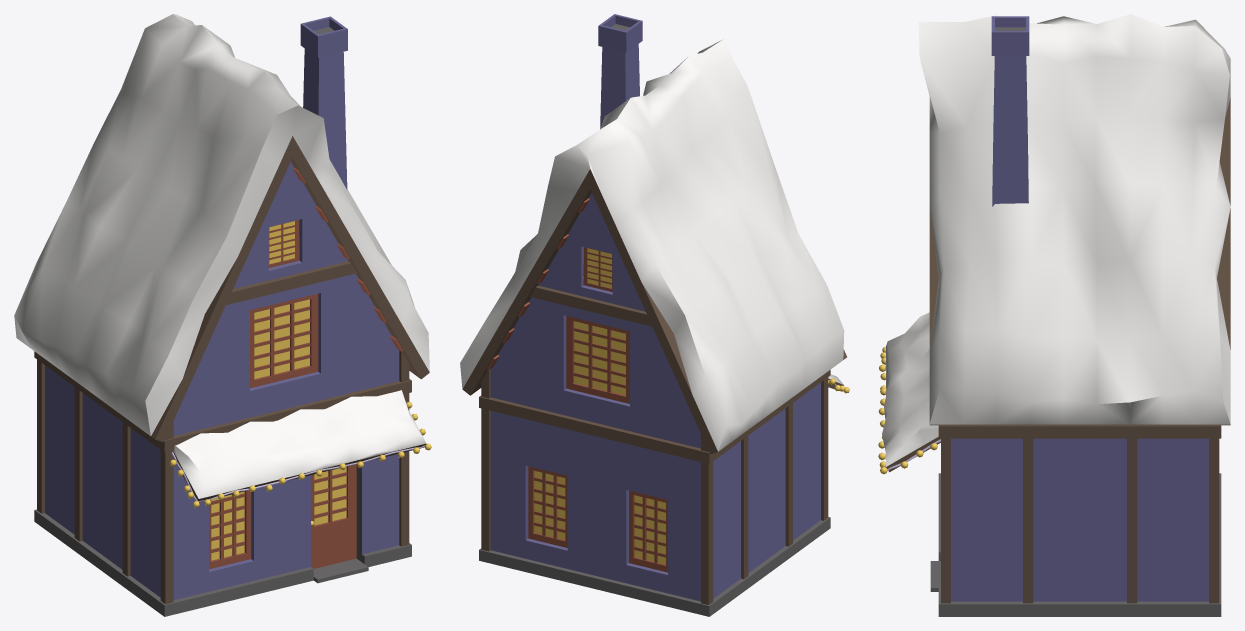
The model's file is House_4.glb.
3 renders of one model, left to right at view 1: azimuth 30°, elevation 25°; view 2: azimuth 150°, elevation 25°; view 3: azimuth 270°, elevation 25°, orthographic. The views are drawn at different scales.
Parts seen in each view (by area): view 1: House_4; view 2: House_4; view 3: House_4.
Boxes of the visible parts, box(x1,y1,x2,y2) form: House_4: box(14, 14, 431, 616); House_4: box(460, 14, 849, 616); House_4: box(878, 14, 1230, 616).
Size of the model in its own units: 0.6286 by 1.02 by 0.5794.
1 material, 1 textured.
